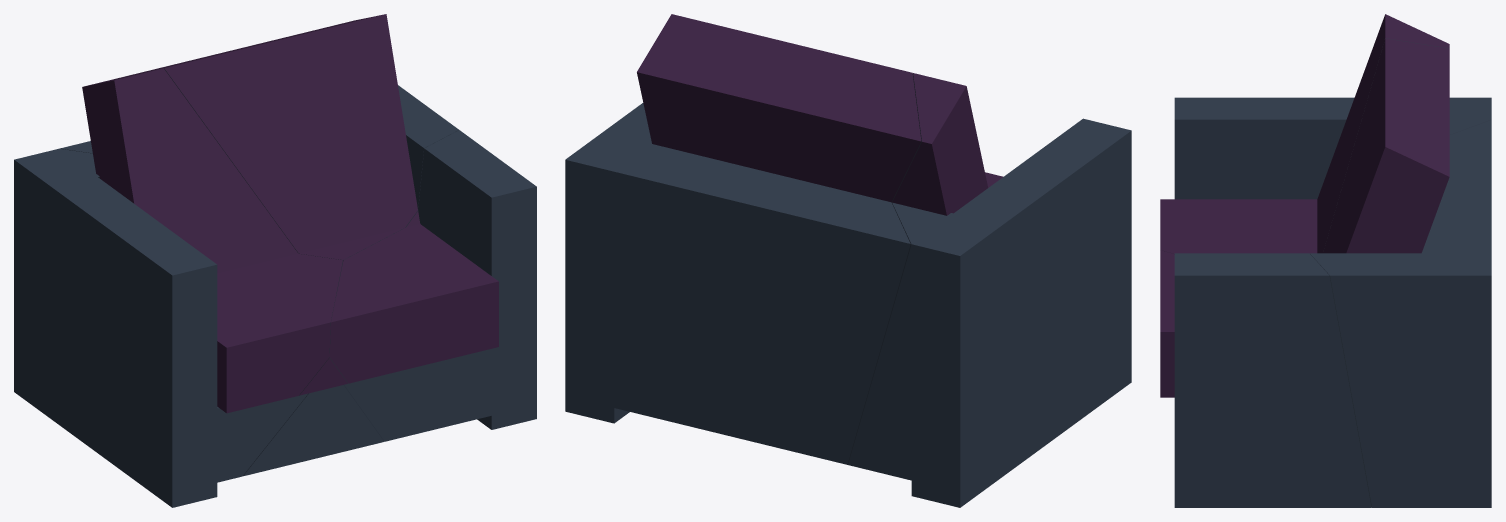
File: ArmchairShatter.fbx
The picture shows the model from 3 angles, left to right: view 1: azimuth 30°, elevation 25°; view 2: azimuth 150°, elevation 25°; view 3: azimuth 270°, elevation 25°; orthographic projection. The views are drawn at different scales.
Visible parts, largest first — view 1: Cube_cell.003, Cube_cell, Cube_cell.001, Cube_cell.002; view 2: Cube_cell.001, Cube_cell.003; view 3: Cube_cell.001, Cube_cell, Cube_cell.003.
Part boxes in pixels (<box>): Cube_cell.003: <box>14,68,342,507</box>; Cube_cell: <box>329,130,536,441</box>; Cube_cell.001: <box>60,14,458,261</box>; Cube_cell.002: <box>243,358,384,476</box>; Cube_cell.001: <box>565,14,921,464</box>; Cube_cell.003: <box>847,73,1131,507</box>; Cube_cell.001: <box>1310,38,1491,507</box>; Cube_cell: <box>1160,250,1371,507</box>; Cube_cell.003: <box>1160,14,1491,253</box>.
Size of the model in its own units: 266 by 236 by 209.
